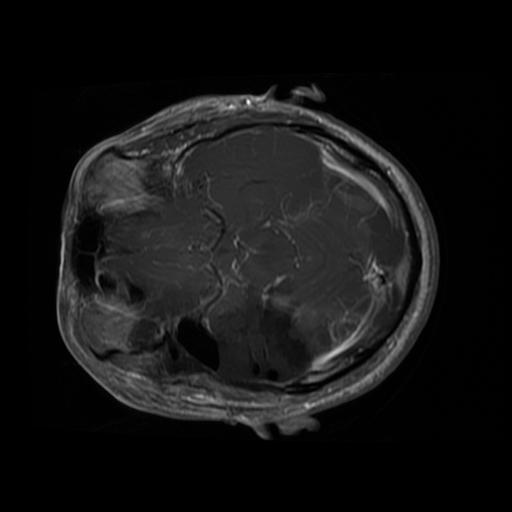glioma: (127, 290, 311, 394)
